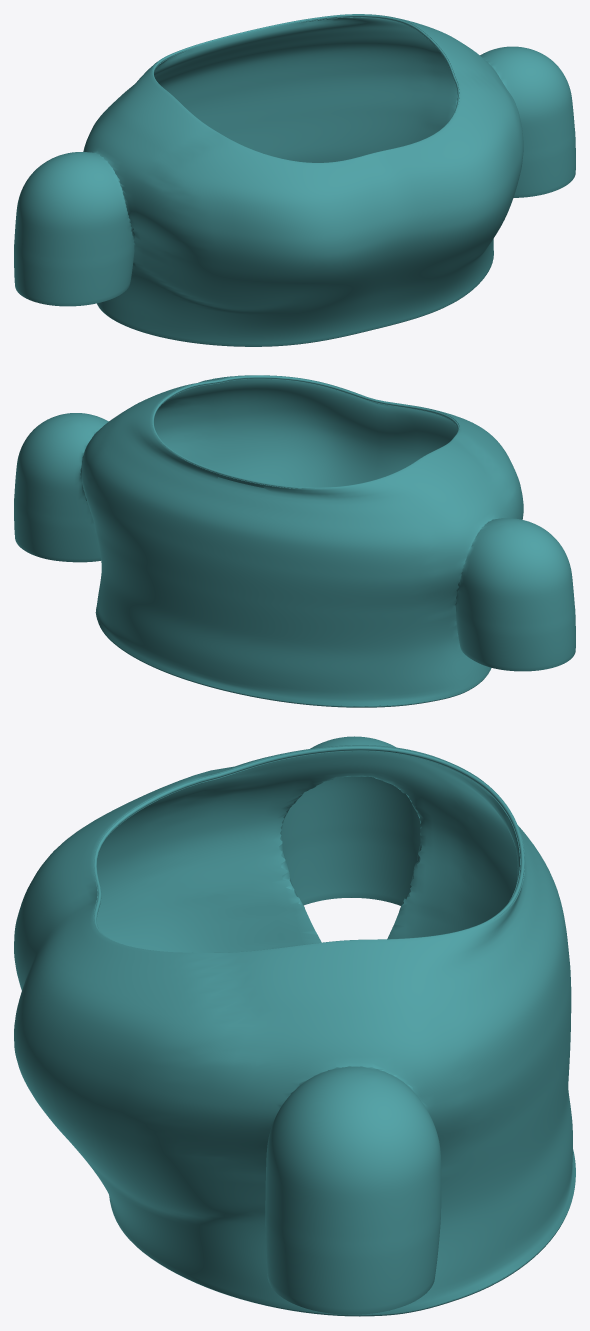
The model's file is Feminine-tshirt-top.glb.
3 renders of one model, top to bottom at view 1: azimuth 30°, elevation 25°; view 2: azimuth 150°, elevation 25°; view 3: azimuth 270°, elevation 25°, orthographic. The views are drawn at different scales.
Parts seen in each view (by area): view 1: Clothing / continuous T-shirt181, Neckline / seated181 export; view 2: Clothing / continuous T-shirt181, Neckline / seated181 export, Shirt / seated hem export; view 3: Clothing / continuous T-shirt181, Neckline / seated181 export, Shirt / seated hem export.
Boxes of the visible parts, <box> form: Clothing / continuous T-shirt181: <box>14,14,575,346</box>; Neckline / seated181 export: <box>152,14,459,162</box>; Clothing / continuous T-shirt181: <box>14,375,575,706</box>; Neckline / seated181 export: <box>152,376,459,488</box>; Shirt / seated hem export: <box>100,627,485,707</box>; Clothing / continuous T-shirt181: <box>14,736,575,1314</box>; Neckline / seated181 export: <box>94,746,524,952</box>; Shirt / seated hem export: <box>151,1189,574,1316</box>.
Bounding box in the file's own units: 0.9173 × 0.3394 × 0.5192.
